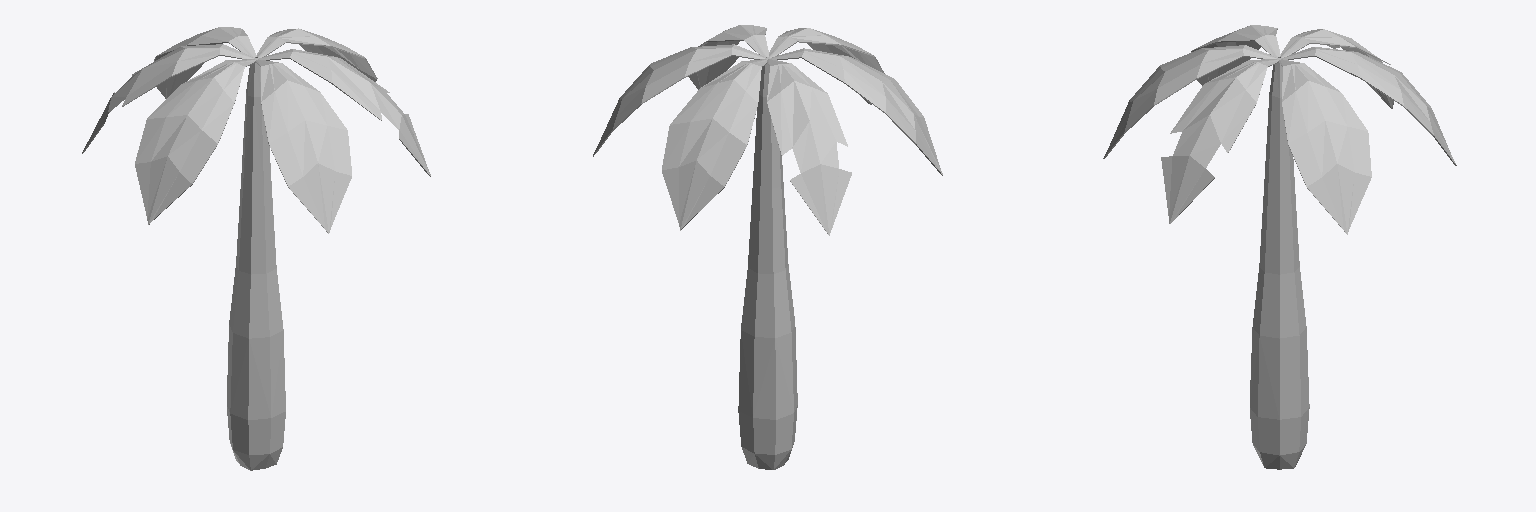
The model's file is Palmtree_sa.obj.
3 views of the same model, side by side, from view 1: azimuth 30°, elevation 25°; view 2: azimuth 150°, elevation 25°; view 3: azimuth 270°, elevation 25° (orthographic).
Parts seen in each view (by area): view 1: Cube_Cube.001, Plane.003_Plane.005, Plane.002_Plane.004, Plane.004_Plane.006, Plane.001_Plane.003, Plane.005_Plane.007, Plane; view 2: Cube_Cube.001, Plane, Plane.001_Plane.003, Plane.002_Plane.004, Plane.005_Plane.007, Plane.003_Plane.005, Plane.004_Plane.006; view 3: Cube_Cube.001, Plane.005_Plane.007, Plane.004_Plane.006, Plane.003_Plane.005, Plane, Plane.002_Plane.004, Plane.001_Plane.003.
Boxes of the visible parts, <box> form: Cube_Cube.001: <box>227,58,285,470</box>; Plane.003_Plane.005: <box>255,59,351,233</box>; Plane.002_Plane.004: <box>135,59,255,224</box>; Plane.004_Plane.006: <box>259,49,430,176</box>; Plane.001_Plane.003: <box>82,44,253,153</box>; Plane.005_Plane.007: <box>256,28,377,81</box>; Plane: <box>154,27,256,98</box>; Cube_Cube.001: <box>738,57,797,469</box>; Plane: <box>662,59,767,230</box>; Plane.001_Plane.003: <box>767,59,851,235</box>; Plane.002_Plane.004: <box>771,48,942,175</box>; Plane.005_Plane.007: <box>593,44,764,156</box>; Plane.003_Plane.005: <box>769,28,884,104</box>; Plane.004_Plane.006: <box>688,25,768,89</box>; Cube_Cube.001: <box>1250,58,1309,469</box>; Plane.005_Plane.007: <box>1278,59,1371,234</box>; Plane.004_Plane.006: <box>1161,59,1278,223</box>; Plane.003_Plane.005: <box>1103,45,1276,158</box>; Plane: <box>1282,47,1456,165</box>; Plane.002_Plane.004: <box>1191,25,1280,85</box>; Plane.001_Plane.003: <box>1280,29,1393,108</box>.
Bounding box in the file's own units: 5.4 × 7.51 × 5.83.